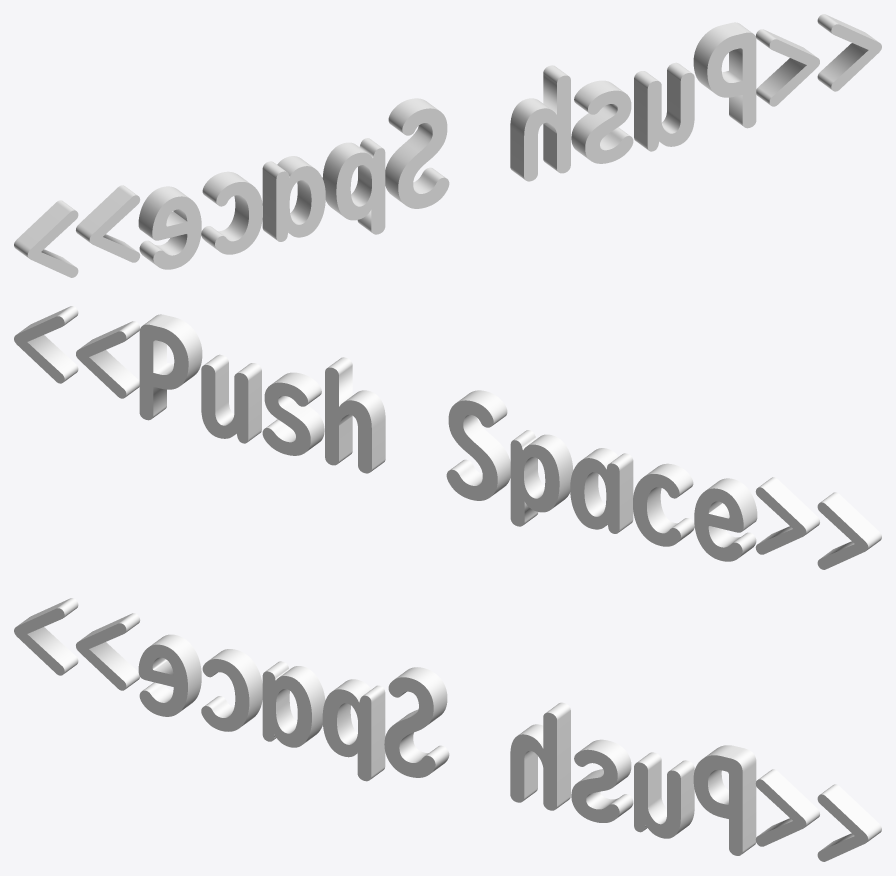
File: push.obj
The picture shows the model from 3 angles, top to bottom: view 1: azimuth 30°, elevation 25°; view 2: azimuth 150°, elevation 25°; view 3: azimuth 330°, elevation 25°; orthographic projection.
Parts seen in each view (by area): view 1: テキスト; view 2: テキスト; view 3: テキスト.
Boxes of the visible parts, box(x1,y1,x2,y2) form: テキスト: box(14, 14, 881, 277); テキスト: box(14, 306, 881, 569); テキスト: box(14, 598, 881, 861).
Bounding box in the file's own units: 1.81 × 0.2311 × 0.0506.
